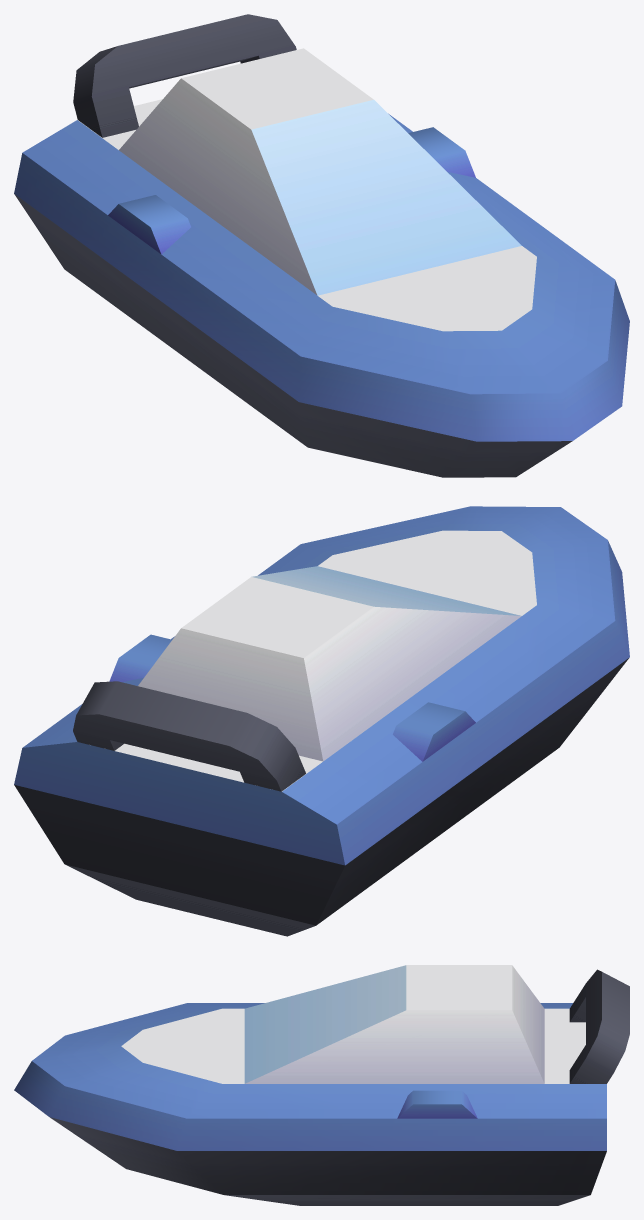
The model's file is boat-speed-g.glb.
3 renders of one model, top to bottom at view 1: azimuth 30°, elevation 25°; view 2: azimuth 150°, elevation 25°; view 3: azimuth 270°, elevation 25°, orthographic. The views are drawn at different scales.
Visible parts, largest first — view 1: boat-speed-g; view 2: boat-speed-g; view 3: boat-speed-g.
Boxes of the visible parts, <box> form: boat-speed-g: <box>14,14,629,477</box>; boat-speed-g: <box>14,506,629,936</box>; boat-speed-g: <box>14,965,629,1205</box>.
Size of the model in its own units: 1.78 by 1.3 by 3.81.
1 material, 1 textured.
